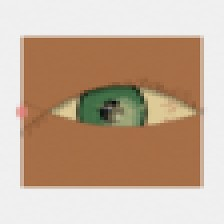corneal_ulcer: (100, 100, 143, 134)
